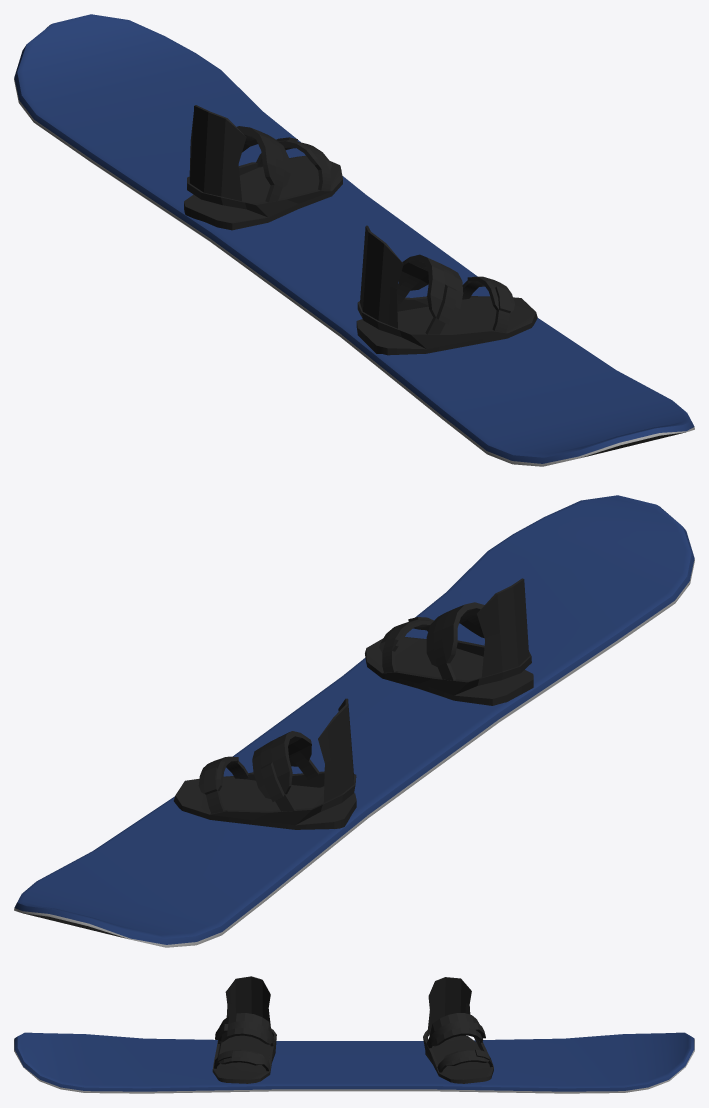
Rendered from TestBoard.fbx.
3 renders of one model, top to bottom at view 1: azimuth 30°, elevation 25°; view 2: azimuth 150°, elevation 25°; view 3: azimuth 270°, elevation 25°, orthographic. The views are drawn at different scales.
Visible parts, largest first — view 1: pCube5; view 2: pCube5; view 3: pCube5.
Boxes of the visible parts, box(x1,y1,x2,y2) form: pCube5: box(14, 14, 694, 466); pCube5: box(14, 495, 694, 947); pCube5: box(14, 976, 694, 1093).
Bounding box in the file's own units: 19.47 × 11.76 × 102.
